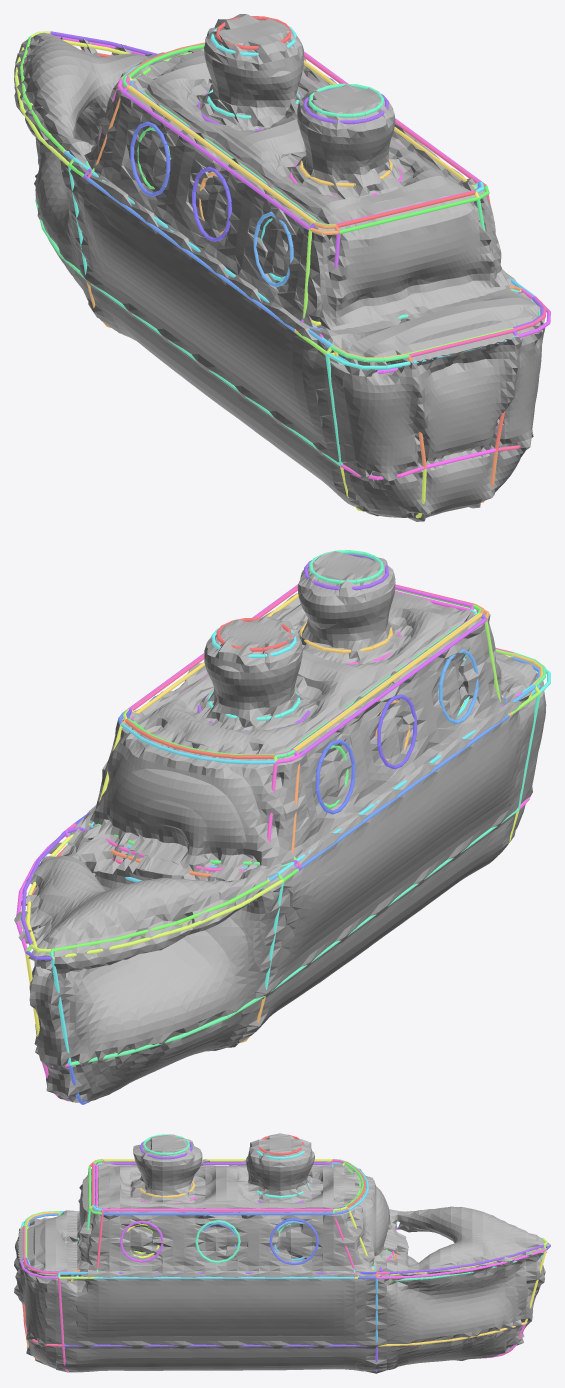
Rendered from onshape_boat.gltf.
The picture shows the model from 3 angles, top to bottom: view 1: azimuth 30°, elevation 25°; view 2: azimuth 150°, elevation 25°; view 3: azimuth 270°, elevation 25°; orthographic projection. The views are drawn at different scales.
Bounding box in the file's own units: 0.2615 × 0.4029 × 0.898.
